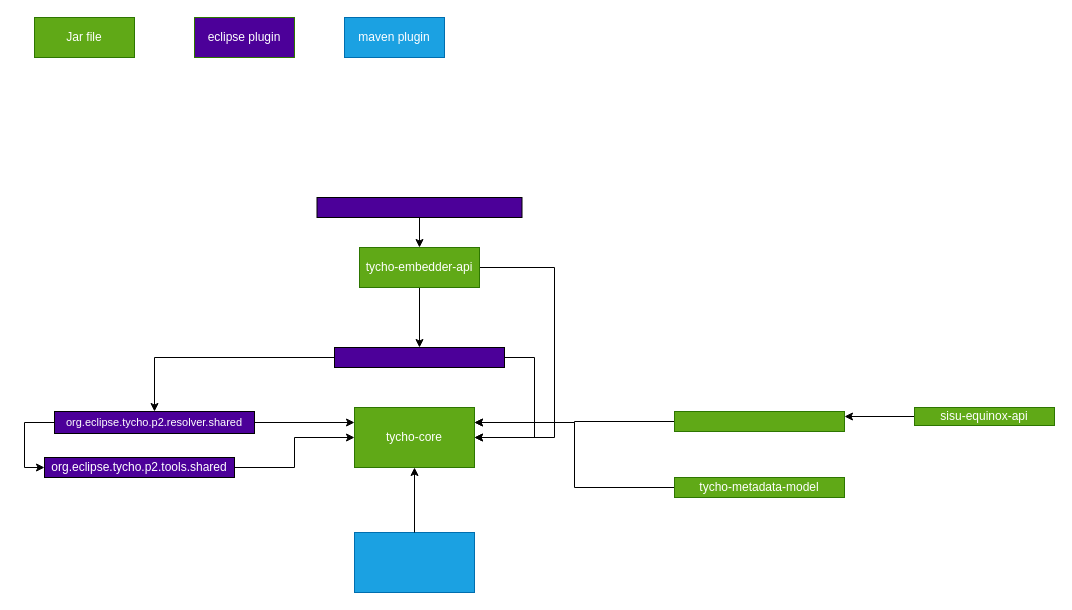
Image size: 1072x610. Some labels were removed from this diagram. The shapes that lost their labels are listed below. From the top down, each one's box as (x1, y1, x2, y2) in pixels, then its label:
(316, 196, 522, 218): org.eclipse.tycho.embedder.shared
(334, 346, 504, 368): org.eclipse.tycho.core.shared
(674, 410, 844, 432): sisu-equinox-embedder
(354, 532, 474, 592): tycho-packaging-plugin
